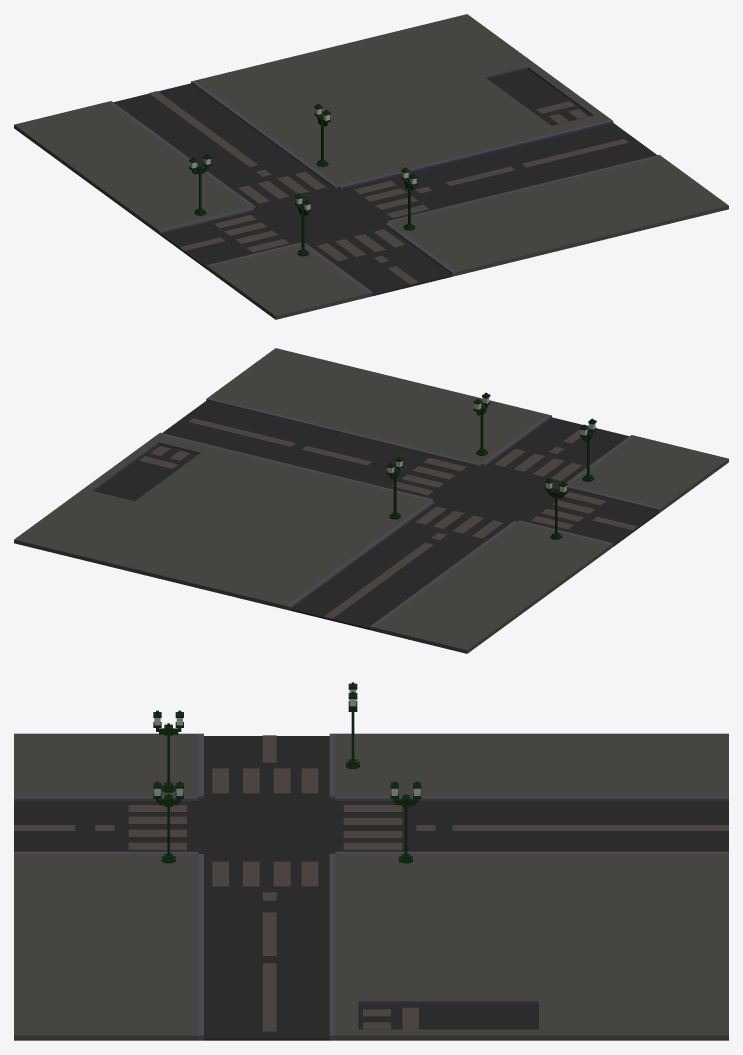
File: Street_Mesh_002.fbx
3 views of the same model, one above another, from view 1: azimuth 30°, elevation 25°; view 2: azimuth 150°, elevation 25°; view 3: azimuth 270°, elevation 25° (orthographic). The views are drawn at different scales.
Visible parts, largest first — view 1: Street_002; view 2: Street_002; view 3: Street_002.
Part boxes in pixels (x1,y1,x2,y2): Street_002: [14, 14, 728, 319]; Street_002: [14, 348, 728, 653]; Street_002: [14, 682, 728, 1040].
Size of the model in its own units: 25.6 by 3.3 by 25.6.
